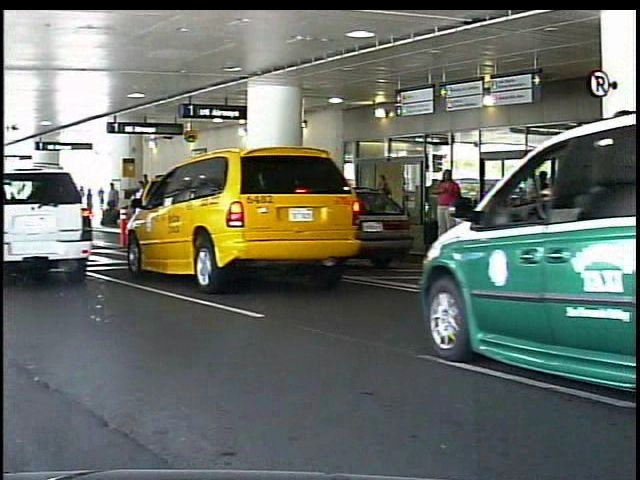person: (437, 166, 466, 230), (378, 171, 399, 233), (107, 179, 124, 228)
